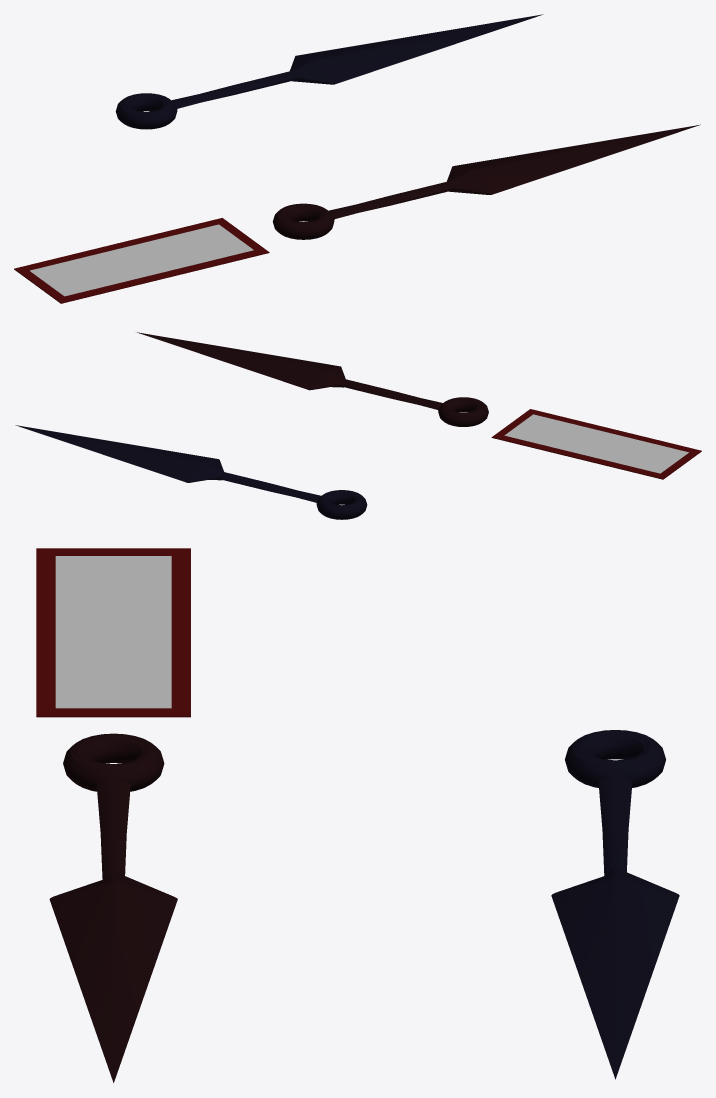
3 views of the same model, one above another, from view 1: azimuth 30°, elevation 25°; view 2: azimuth 150°, elevation 25°; view 3: azimuth 270°, elevation 25° (orthographic). The views are drawn at different scales.
Parts seen in each view (by area): view 1: 부적, 수리검, 폭팔수리검; view 2: 부적, 폭팔수리검, 수리검; view 3: 부적, 수리검, 폭팔수리검.
Boxes of the visible parts, bbox=[...] form: 부적: bbox=[14, 218, 269, 303]; 수리검: bbox=[115, 14, 543, 129]; 폭팔수리검: bbox=[272, 124, 700, 239]; 부적: bbox=[491, 409, 701, 479]; 폭팔수리검: bbox=[137, 332, 488, 426]; 수리검: bbox=[15, 425, 367, 519]; 부적: bbox=[36, 548, 190, 717]; 수리검: bbox=[551, 730, 679, 1079]; 폭팔수리검: bbox=[49, 733, 177, 1082].
Bounding box in the file's own units: 33.9 × 0.9897 × 17.26.
